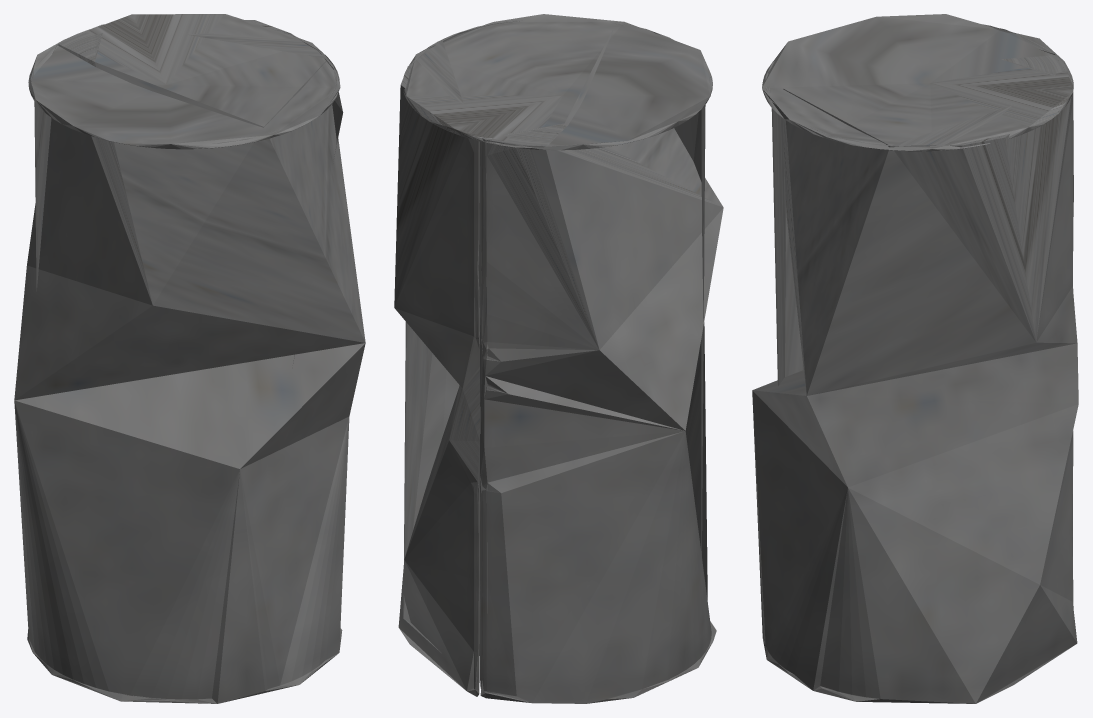
The model's file is container_can_tin_open_a01.glb.
The picture shows the model from 3 angles, left to right: view 1: azimuth 30°, elevation 25°; view 2: azimuth 150°, elevation 25°; view 3: azimuth 270°, elevation 25°; orthographic projection.
Parts seen in each view (by area): view 1: geometry_0; view 2: geometry_0; view 3: geometry_0.
Part boxes in pixels (bbox=[...]): geometry_0: bbox=[14, 14, 365, 703]; geometry_0: bbox=[394, 14, 723, 703]; geometry_0: bbox=[752, 14, 1078, 703].
Bounding box in the file's own units: 0.2212 × 0.42 × 0.2204.
Materials: 1 (1 with a texture image).
